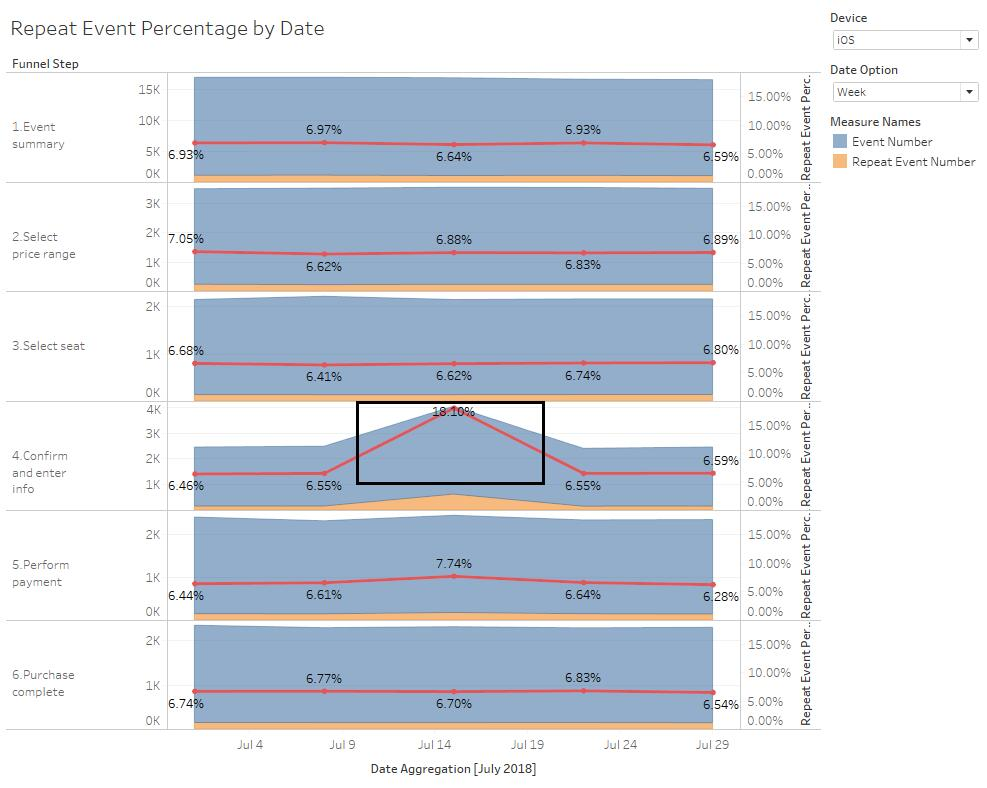

This screenshot's page, from the dashboard's own definition file:
{"tool":"tableau","page":{"name":"Repeat Event Percentage","canvas":[1000,800],"ordinal":3},"visuals":[{"type":"worksheet","title":"Repeat Event % Change","mark":"Area","rows":["Funnel","Calculation_1519190848505434121"],"cols":["Calculation_1519190848479875079"],"box":[8,8,824,784]},{"type":"filter","title":"Repeat Event % Change","param":"[federated.104fmxz02z8ek91d0op1l1si5i98].[none:OS:nk]","box":[832,8,160,52]},{"type":"parameter","param":"[Parameters].[Date Parameter]","box":[832,60,160,52]},{"type":"legend","title":"Repeat Event % Change","param":"[federated.104fmxz02z8ek91d0op1l1si5i98].[:Measure Names]","box":[832,112,160,66]}]}

Visuals, with their boxes in screenshot pixels (x1, y1, x2, y2), scaled from the page's 1000x800 canvas onto the 987x788 screenshot:
"Repeat Event % Change" worksheet (Area marks): bbox=[8, 8, 821, 780]
"Repeat Event % Change" filter: bbox=[821, 8, 979, 59]
parameter: bbox=[821, 59, 979, 110]
"Repeat Event % Change" legend: bbox=[821, 110, 979, 175]
